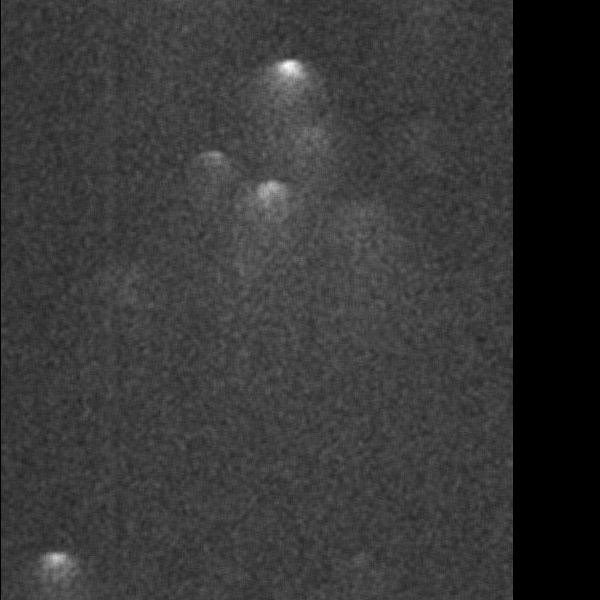spark: (262, 55, 314, 133), (314, 191, 339, 353), (36, 549, 78, 596), (258, 176, 287, 237), (192, 147, 230, 190), (341, 549, 365, 573)
